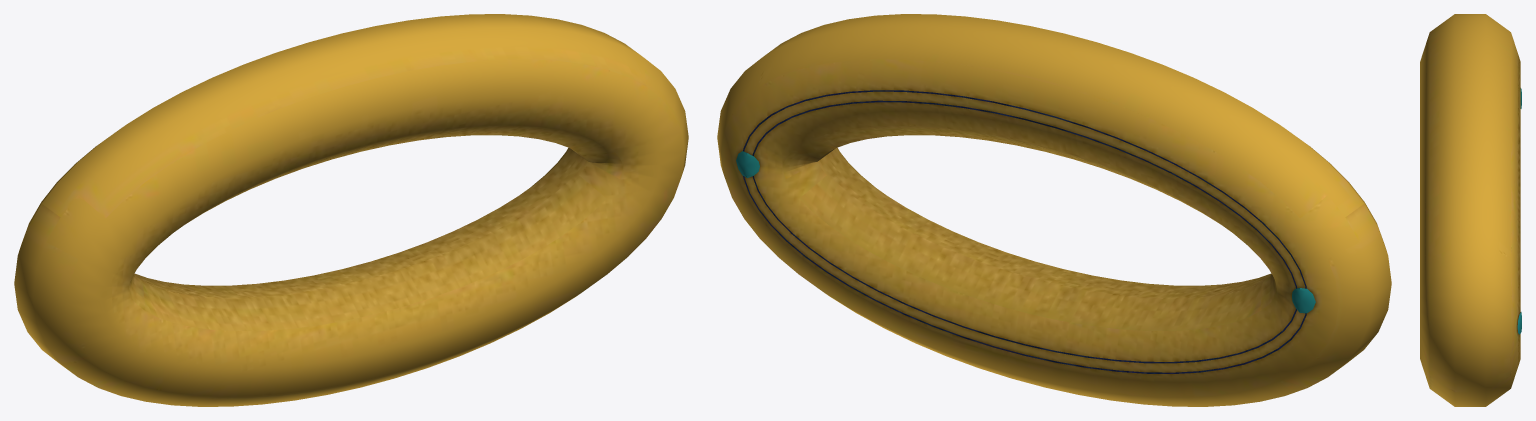
3 views of the same model, side by side, from view 1: azimuth 30°, elevation 25°; view 2: azimuth 150°, elevation 25°; view 3: azimuth 270°, elevation 25° (orthographic). The views are drawn at different scales.
Parts seen in each view (by area): view 1: Royal_polished_gold; view 2: Royal_polished_gold, Lapis_lazuli_inlay, Turquoise_end_inlays; view 3: Royal_polished_gold, Turquoise_end_inlays.
Boxes of the visible parts, left/top/right/bottom form: Royal_polished_gold: left=14, top=14, right=688, bottom=406; Royal_polished_gold: left=717, top=14, right=1391, bottom=406; Lapis_lazuli_inlay: left=743, top=90, right=1306, bottom=373; Turquoise_end_inlays: left=736, top=151, right=1315, bottom=313; Royal_polished_gold: left=1420, top=14, right=1520, bottom=406; Turquoise_end_inlays: left=1517, top=88, right=1521, bottom=334.
Size of the model in its own units: 0.8731 by 0.4331 by 0.1417.
3 materials, 3 textured.
